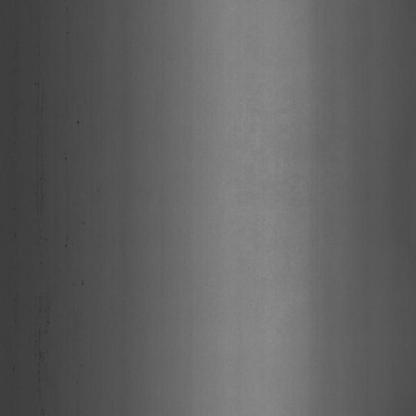inclusion: (26, 55, 51, 401), (76, 271, 88, 301), (62, 231, 72, 254), (75, 113, 80, 128)
